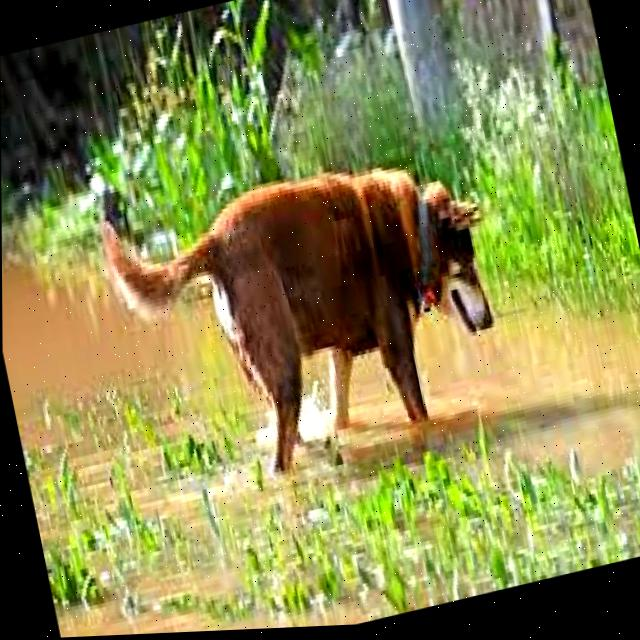dog: (82, 122, 538, 517)
